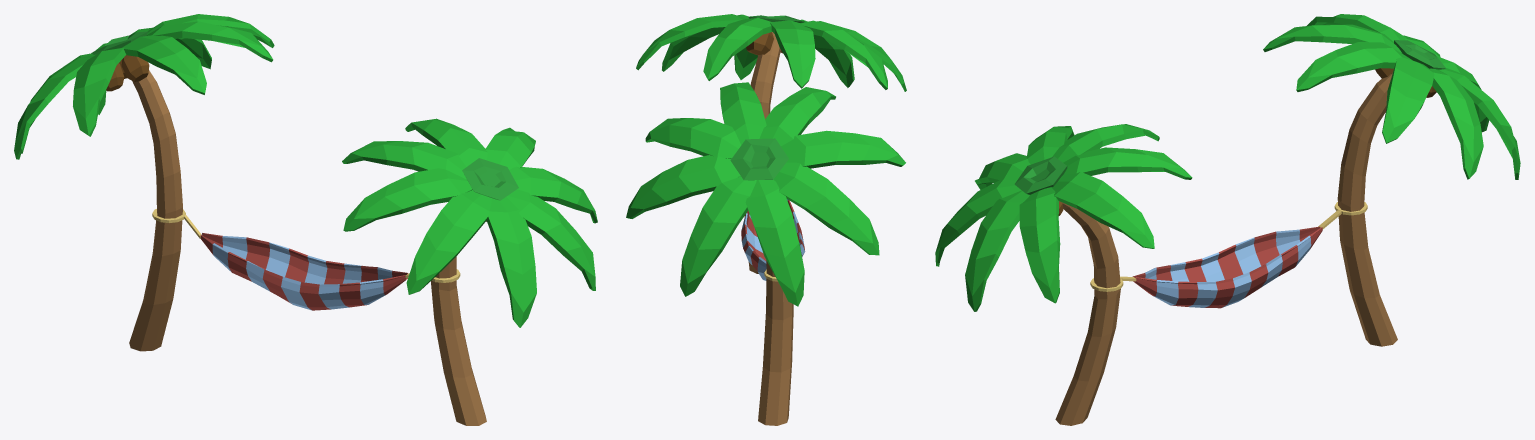
Rendered from palmtreeHammock.fbx.
3 renders of one model, left to right at view 1: azimuth 30°, elevation 25°; view 2: azimuth 150°, elevation 25°; view 3: azimuth 270°, elevation 25°, orthographic. The views are drawn at different scales.
Visible parts, largest first — view 1: Plane, Cylinder, Cylinder.005, Cube.010, Cube.009, Cube.013, Cube.008, Cube.015, Cube.003, Cube.006, Cube.012, Cube.007 (+7 smaller); view 2: Cube, Cube.001, Cylinder, Cube.004, Cube.002, Cube.003, Cube.005, Cube.006, Cube.007, Cube.014, Cube.015, Cylinder.003 (+9 smaller); view 3: Plane, Cylinder, Cylinder.005, Cube.012, Cube.011, Cube.008, Cube.005, Cube.007, Cube.002, Cube.014, Cube.009, Cube.006 (+7 smaller).
Part boxes in pixels (box(x1,y1,x2,y2)): Plane: box(200, 233, 407, 310); Cylinder: box(129, 70, 182, 351); Cylinder.005: box(430, 256, 486, 425); Cube.010: box(406, 190, 491, 294); Cube.009: box(486, 197, 536, 327); Cube.013: box(343, 168, 472, 231); Cube.008: box(506, 189, 595, 290); Cube.015: box(342, 141, 466, 179); Cube.003: box(73, 47, 126, 136); Cube.006: box(122, 35, 206, 94); Cube.012: box(509, 166, 597, 223); Cube.007: box(146, 21, 273, 62); Cube: box(745, 179, 804, 306); Cube.001: box(680, 176, 756, 296); Cylinder: box(758, 260, 793, 425); Cube.004: box(773, 162, 879, 255); Cube.002: box(626, 155, 740, 218); Cube.003: box(781, 130, 905, 168); Cube.005: box(645, 118, 741, 158); Cube.006: box(759, 87, 835, 145); Cube.007: box(720, 82, 766, 144); Cube.014: box(703, 17, 772, 80); Cube.015: box(770, 20, 815, 88); Cylinder.003: box(730, 138, 788, 180); Plane: box(1132, 226, 1322, 308); Cylinder: box(1337, 72, 1397, 346); Cylinder.005: box(1055, 202, 1120, 425); Cube.012: box(1019, 187, 1060, 303); Cube.011: box(1052, 172, 1154, 248); Cube.008: box(965, 190, 1029, 311); Cube.005: box(1382, 57, 1434, 143); Cube.007: box(1296, 42, 1412, 91); Cube.002: box(1429, 68, 1483, 179); Cube.014: box(1063, 147, 1192, 179); Cube.009: box(935, 179, 1021, 266); Cube.006: box(1263, 24, 1402, 53).
Size of the model in its own units: 1437 by 1083 by 1838.
